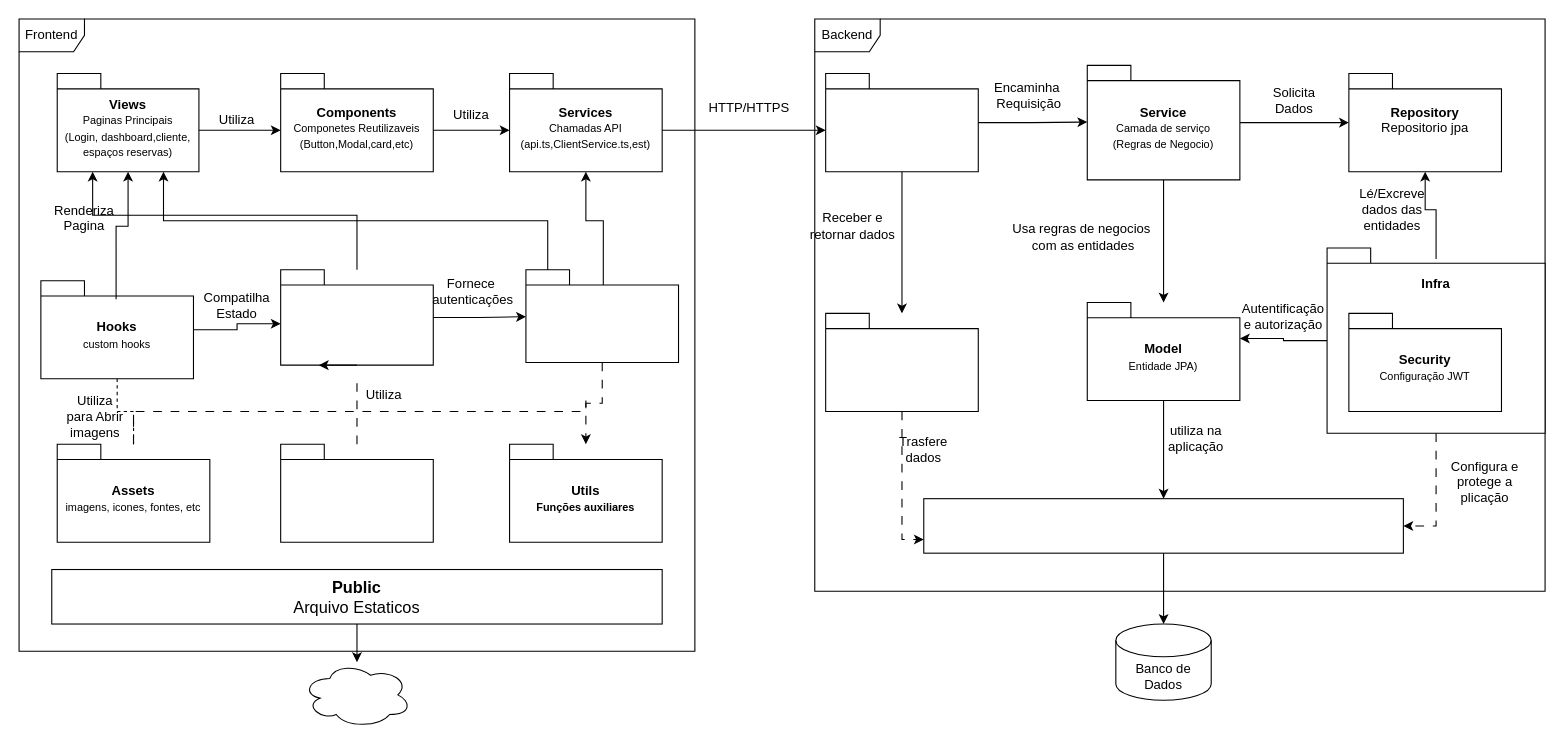
This 1564x747 diagram has some shape labels left out. The shapes that lost their labels are listed below. From the top down, each one's centre as x and y in pixels, then its label:
(x=901, y=122): Controller Rest Controllers (Endpoints)
(x=356, y=317): Context Context API (AuthContext)
(x=602, y=315): Routs React Router
(x=901, y=361): DTO DTO's (Request Response)
(x=356, y=492): Types tipos TypeScript
(x=1163, y=525): Backend Aplication
(x=356, y=694): Navegador/ Usuario
